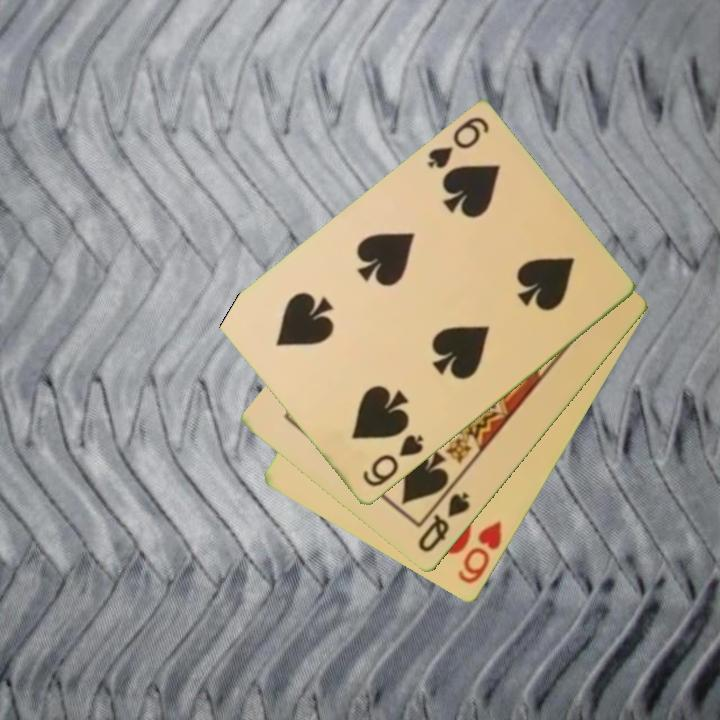6h: (454, 517, 505, 588)
6s: (423, 113, 492, 173), (359, 431, 427, 491)
Qs: (414, 489, 473, 556)
